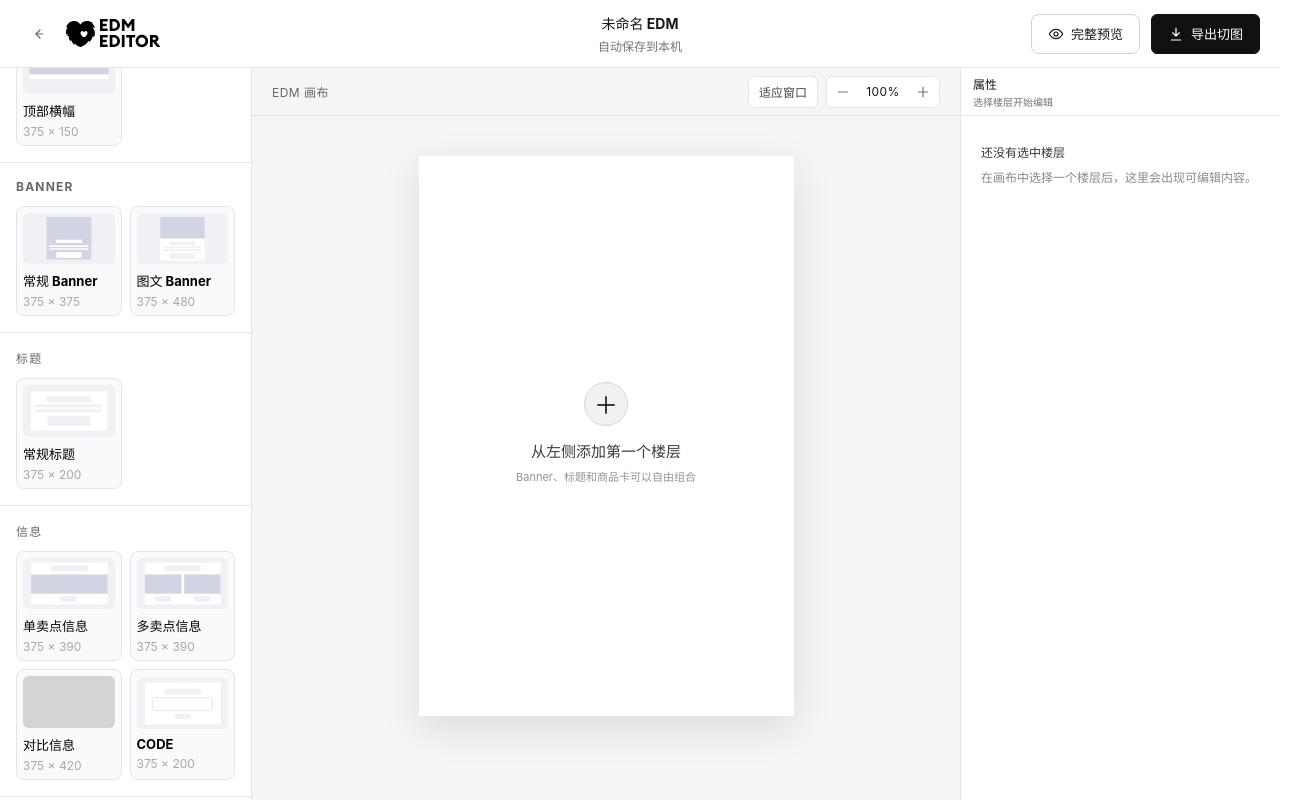
it: 普通楼层按顺序应用 A/B 背景且不再显示上下移动按钮
The width and height of the screenshot is (1292, 800).
(page scrolled)
Click the button with aria-label "添加 常规标题" at (69, 434), box [16,378,122,489]
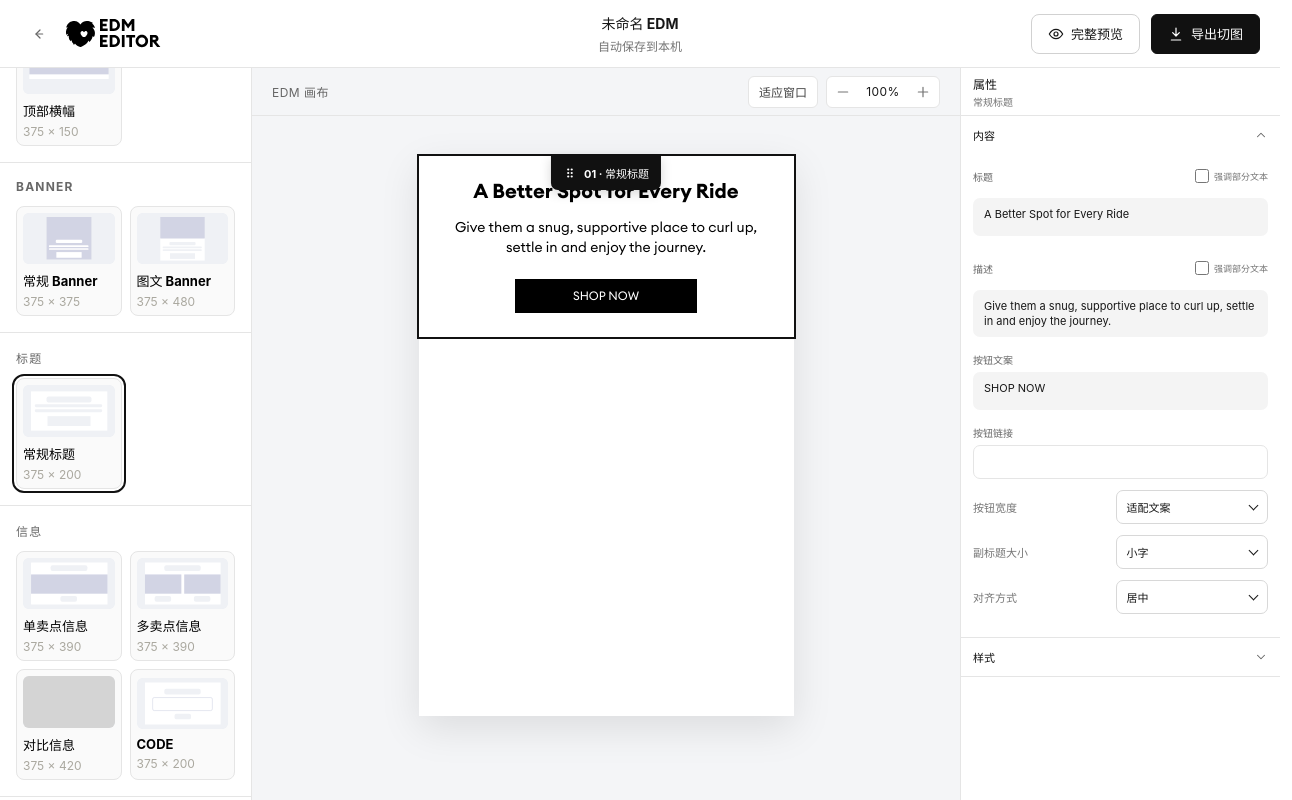
Click the button with aria-label "添加 常规标题" at (69, 434), box [16,378,122,489]
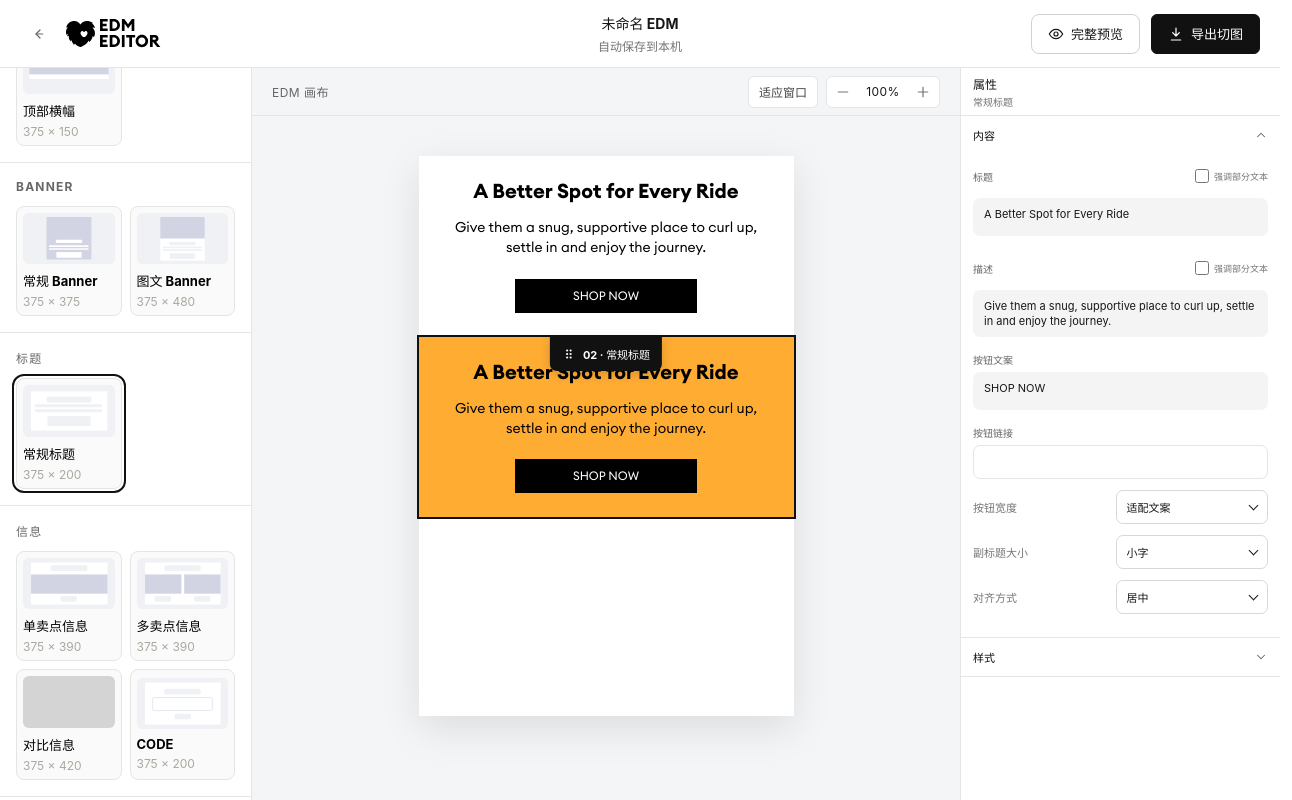
Click the button "样式" at (984, 658), box [961,638,1280,676]
(page scrolled)
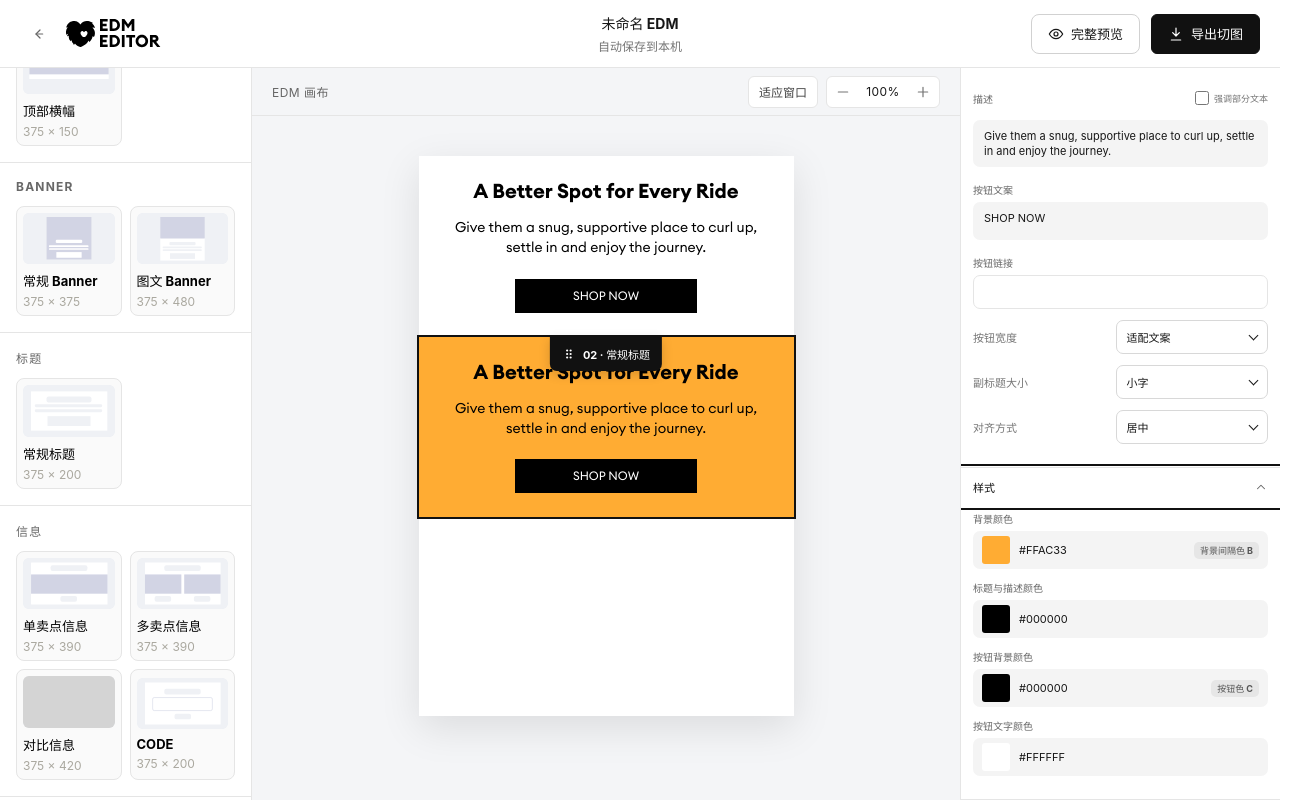
Now the field named "背景颜色色值" holds "#FFAC33", box [1019,533,1185,567]
Now the text "背景间隔色 B" is shown, box [1194,542,1259,558]
Now the text "按钮色 C" is shown, box [1211,680,1259,696]
